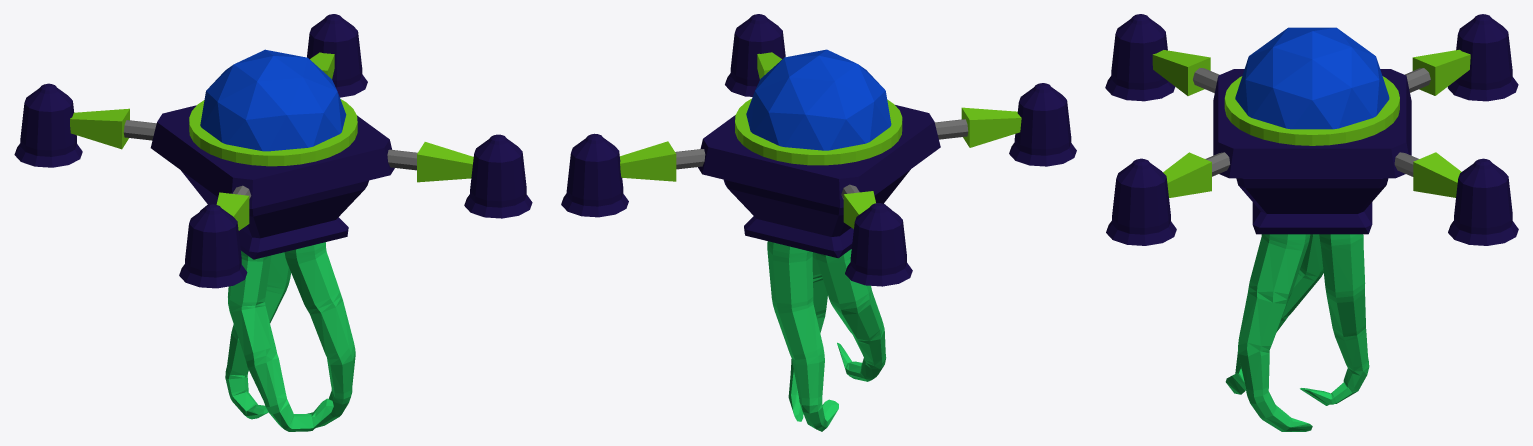
Rendered from jellyfishBoss_25.obj.
The picture shows the model from 3 angles, left to right: view 1: azimuth 30°, elevation 25°; view 2: azimuth 150°, elevation 25°; view 3: azimuth 270°, elevation 25°; orthographic projection. The views are drawn at different scales.
Parts seen in each view (by area): view 1: Base_Cube.001, Head_Icosphere, Cylinder.003_Cylinder.002, Cylinder.002_Cylinder.001, Rocket_2_Cylinder.014, Rocket_1_Cylinder.003, Rocket_3_Cylinder.016, Cylinder, Rocket_4_Cylinder.018, Cylinder.001_Cylinder.012, B_Arm_1_Cube.002, B_Arm_3_Cube.011 (+3 smaller); view 2: Base_Cube.001, Head_Icosphere, Cylinder.001_Cylinder.012, Cylinder.003_Cylinder.002, Rocket_3_Cylinder.016, Rocket_4_Cylinder.018, Rocket_2_Cylinder.014, Cylinder, Rocket_1_Cylinder.003, B_Arm_4_Cube.012, B_Arm_2_Cube.010, Cylinder.002_Cylinder.001 (+3 smaller); view 3: Base_Cube.001, Head_Icosphere, Cylinder.002_Cylinder.001, Cylinder.001_Cylinder.012, Rocket_1_Cylinder.003, Rocket_4_Cylinder.018, Rocket_3_Cylinder.016, Rocket_2_Cylinder.014, Cylinder, Cylinder.003_Cylinder.002, B_Arm_2_Cube.010, B_Arm_3_Cube.011 (+4 smaller).
Boxes of the visible parts, left/top/right/bottom form: Base_Cube.001: left=150, top=105, right=394, bottom=259; Head_Icosphere: left=200, top=49, right=346, bottom=151; Cylinder.003_Cylinder.002: left=228, top=251, right=333, bottom=431; Cylinder.002_Cylinder.001: left=284, top=242, right=355, bottom=427; Rocket_2_Cylinder.014: left=179, top=204, right=247, bottom=288; Rocket_1_Cylinder.003: left=464, top=134, right=532, bottom=218; Rocket_3_Cylinder.016: left=14, top=83, right=82, bottom=167; Cylinder: left=189, top=99, right=357, bottom=166; Rocket_4_Cylinder.018: left=307, top=14, right=367, bottom=97; Cylinder.001_Cylinder.012: left=225, top=252, right=290, bottom=419; B_Arm_1_Cube.002: left=417, top=142, right=473, bottom=182; B_Arm_3_Cube.011: left=70, top=108, right=129, bottom=149; Base_Cube.001: left=698, top=105, right=940, bottom=258; Head_Icosphere: left=746, top=49, right=891, bottom=150; Cylinder.001_Cylinder.012: left=767, top=241, right=838, bottom=431; Cylinder.003_Cylinder.002: left=815, top=249, right=886, bottom=381; Rocket_3_Cylinder.016: left=845, top=203, right=912, bottom=286; Rocket_4_Cylinder.018: left=561, top=133, right=628, bottom=217; Rocket_2_Cylinder.014: left=1009, top=83, right=1076, bottom=166; Cylinder: left=735, top=98, right=902, bottom=165; Rocket_1_Cylinder.003: left=725, top=14, right=785, bottom=96; B_Arm_4_Cube.012: left=620, top=141, right=676, bottom=181; B_Arm_2_Cube.010: left=961, top=107, right=1021, bottom=147; Cylinder.002_Cylinder.001: left=788, top=252, right=827, bottom=421; Base_Cube.001: left=1213, top=69, right=1411, bottom=234; Head_Icosphere: left=1235, top=27, right=1389, bottom=129; Cylinder.002_Cylinder.001: left=1238, top=234, right=1312, bottom=431; Cylinder.001_Cylinder.012: left=1300, top=234, right=1369, bottom=405; Rocket_1_Cylinder.003: left=1106, top=158, right=1176, bottom=245; Rocket_4_Cylinder.018: left=1448, top=158, right=1518, bottom=245; Rocket_3_Cylinder.016: left=1447, top=14, right=1518, bottom=101; Rocket_2_Cylinder.014: left=1105, top=14, right=1175, bottom=101; Cylinder: left=1224, top=76, right=1399, bottom=145; Cylinder.003_Cylinder.002: left=1225, top=234, right=1323, bottom=394; B_Arm_2_Cube.010: left=1152, top=50, right=1210, bottom=95; B_Arm_3_Cube.011: left=1412, top=49, right=1470, bottom=95.
Size of the model in its own units: 14.77 by 15.38 by 14.77.
